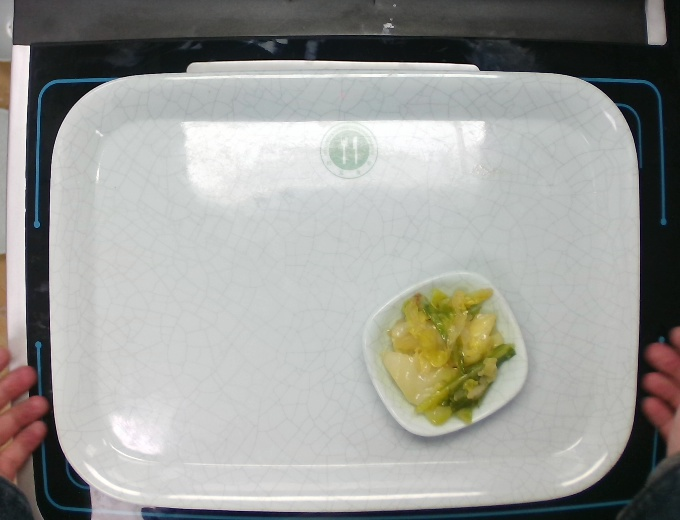JYsf-Si_Fang_Die: (358, 267, 531, 438)
